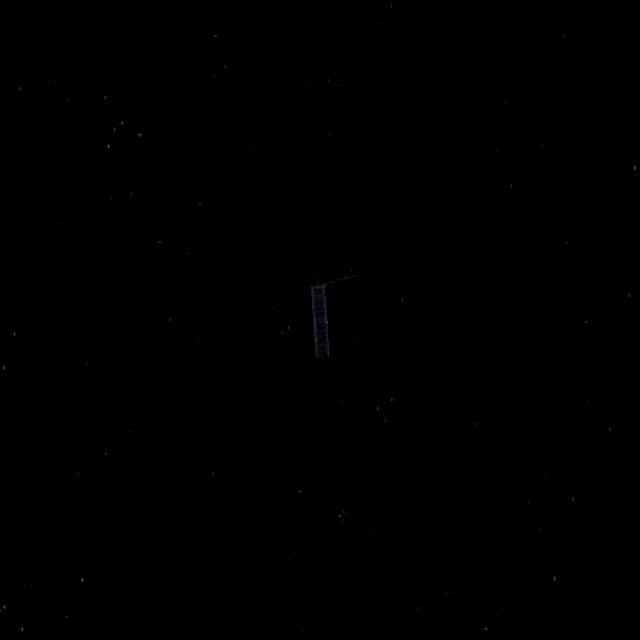satellite: (252, 264, 374, 364)
